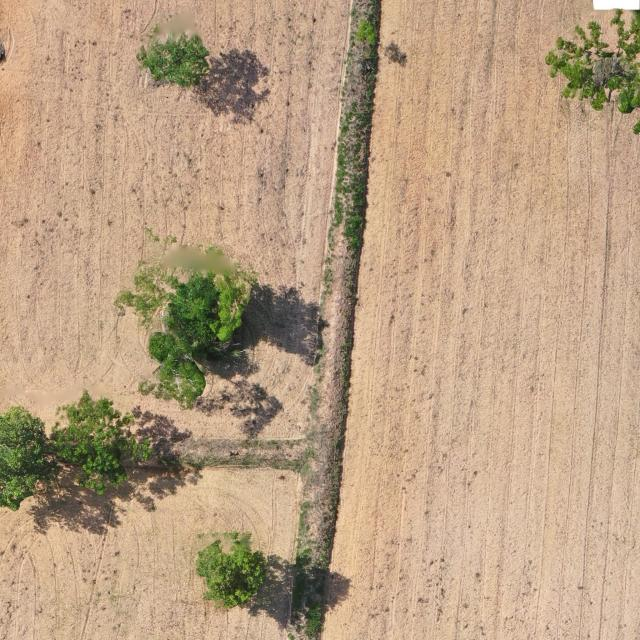Tree: (111, 228, 260, 412), (544, 7, 640, 135), (52, 388, 153, 497), (0, 404, 60, 513), (193, 530, 270, 612), (136, 23, 210, 87), (355, 18, 378, 46)
